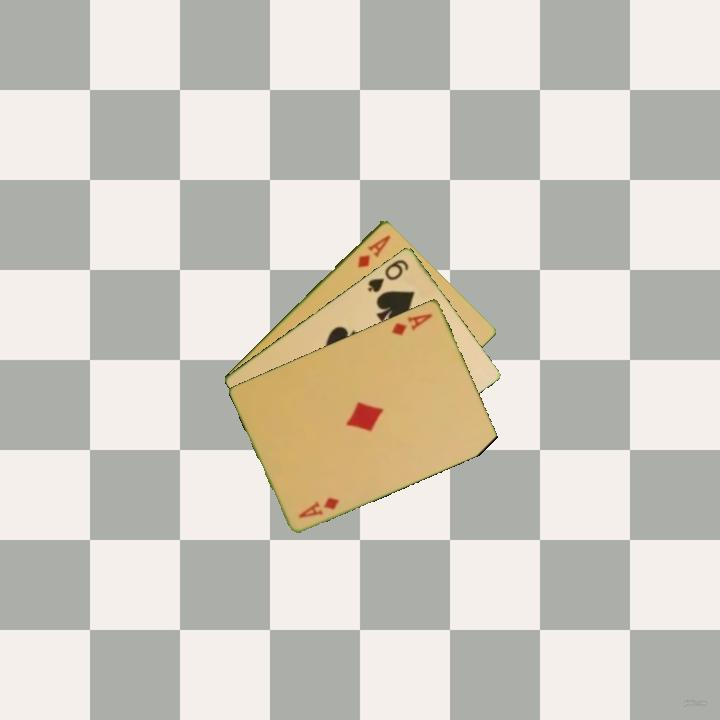6s: (364, 255, 412, 295)
Ad: (354, 231, 394, 270), (388, 309, 435, 338), (295, 493, 342, 520)
